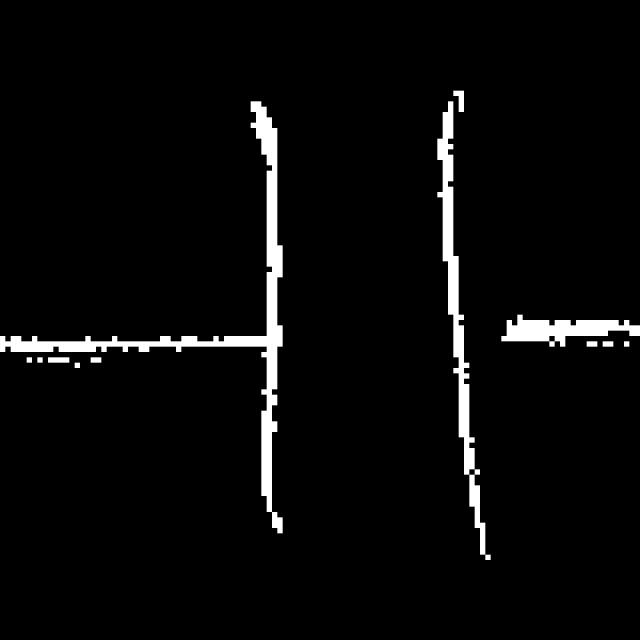capacitor: (240, 78, 492, 562)
